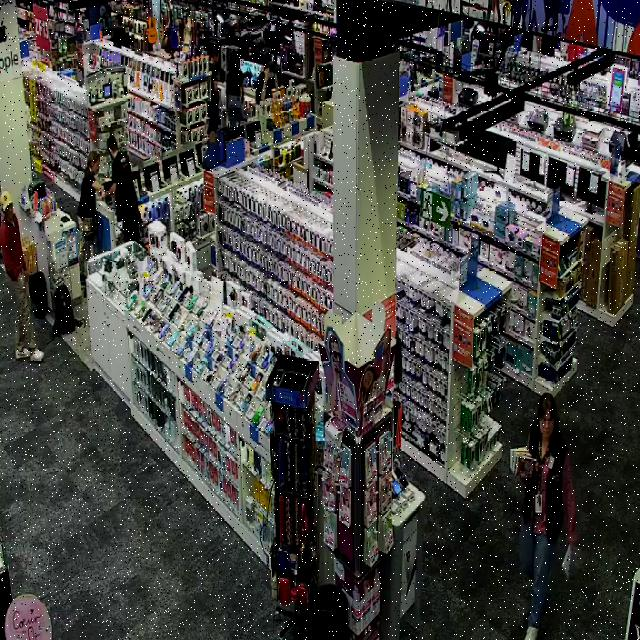article: (509, 447, 534, 477)
bags: (54, 284, 85, 334)
hands: (568, 532, 578, 552)
person: (516, 393, 576, 639), (0, 192, 43, 361), (106, 136, 140, 241), (77, 151, 104, 279)
